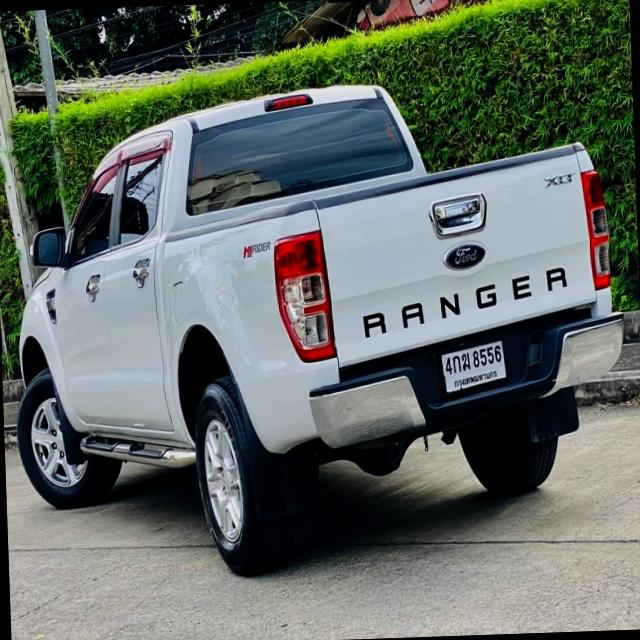license_plate: (436, 334, 511, 399)
